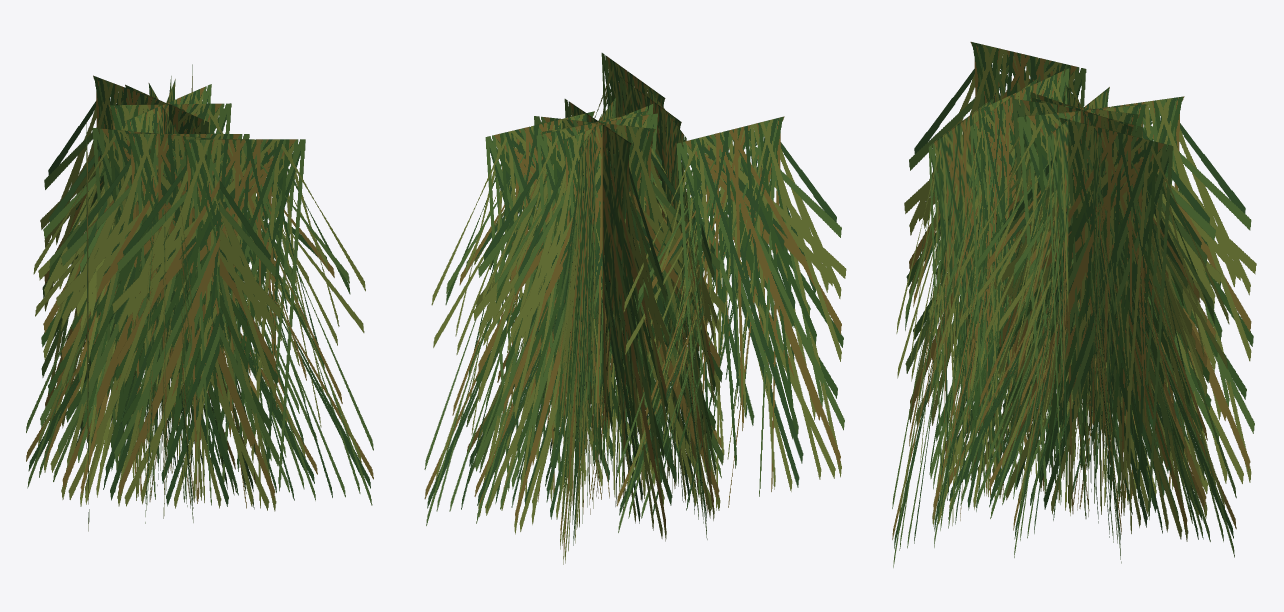
Rendered from grasbueschel_2.glb.
3 views of the same model, side by side, from view 1: azimuth 30°, elevation 25°; view 2: azimuth 150°, elevation 25°; view 3: azimuth 270°, elevation 25° (orthographic). The views are drawn at different scales.
Visible parts, largest first — view 1: grasbueschel_2_n1; view 2: grasbueschel_2_n1; view 3: grasbueschel_2_n1.
Part boxes in pixels (x1,y1,x2,y2): grasbueschel_2_n1: (26,64,373,531); grasbueschel_2_n1: (424,53,846,564); grasbueschel_2_n1: (892,42,1256,567).
Size of the model in its own units: 0.3252 by 0.4214 by 0.341.
1 material, 1 textured.
